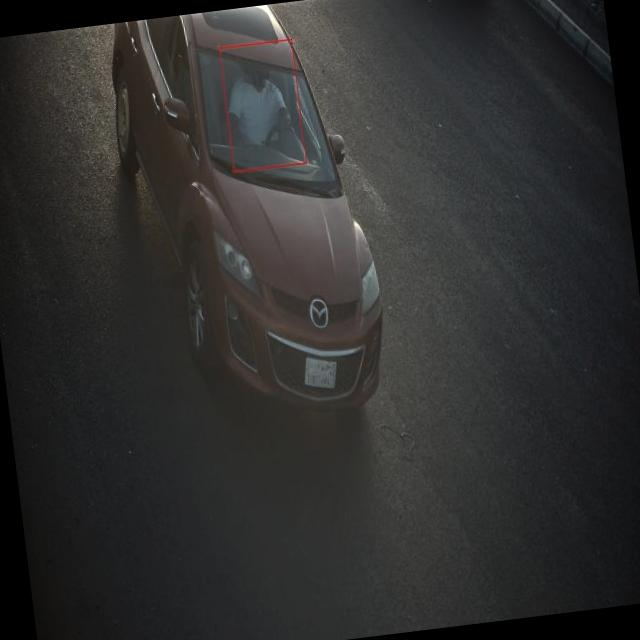person_without_seatbelt: (226, 48, 315, 166)
